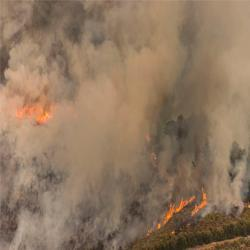fire: (18, 104, 49, 125), (199, 189, 207, 209), (164, 206, 177, 217), (179, 199, 187, 211)
smoke: (79, 58, 149, 161), (160, 7, 236, 92)
